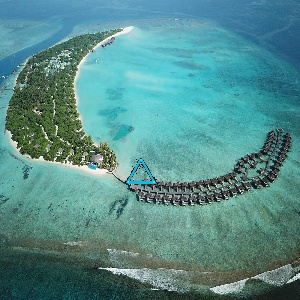triangle: (122, 156, 158, 191)
